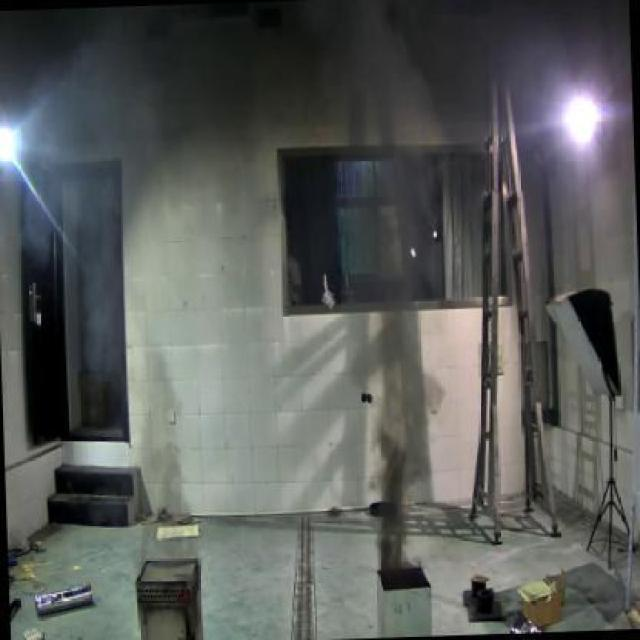fire: (369, 322, 442, 568)
